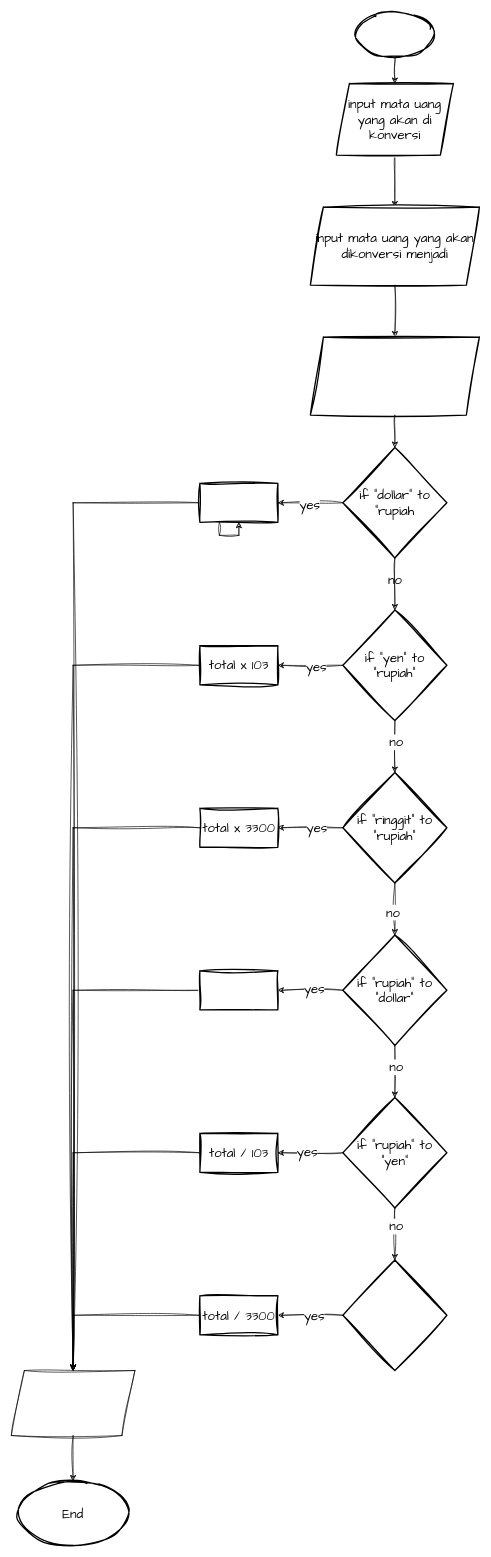
Some shapes in this 491 by 1557 pixel diagram are drawn without their labels. Here are the shapes that lost their labels. From the top down, the centre of each, then its label:
point (394, 34): start
point (394, 375): input jumlah
point (238, 502): total x 15000
point (238, 990): total / 15000
point (394, 1315): if "rupiah" to "ringgit"
point (73, 1403): tampilkan " hasil konversi "
